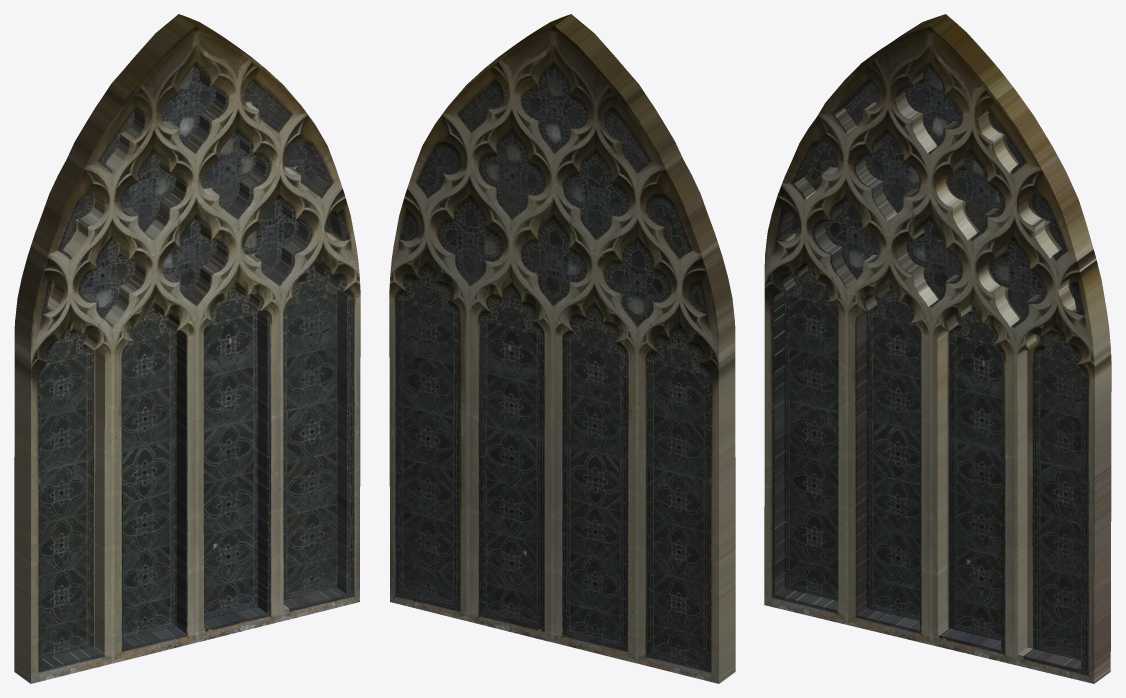
File: win1.glb
3 views of the same model, side by side, from view 1: azimuth 30°, elevation 25°; view 2: azimuth 150°, elevation 25°; view 3: azimuth 330°, elevation 25° (orthographic).
Parts seen in each view (by area): view 1: frame_window_0; view 2: frame_window_0; view 3: frame_window_0.
Boxes of the visible parts, box(x1,y1,x2,y2) form: frame_window_0: box(14, 14, 360, 683); frame_window_0: box(389, 14, 735, 683); frame_window_0: box(764, 14, 1111, 683).
Size of the model in its own units: 2.14 by 3.82 by 0.1852.
Materials: 1 (1 with a texture image).
